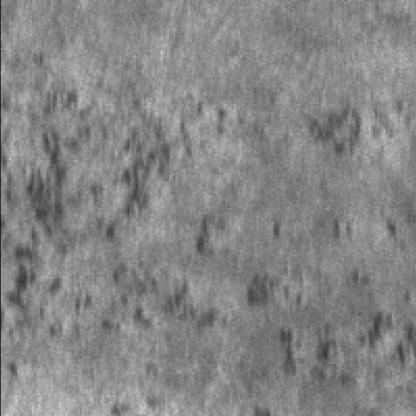rolled-in_scale: (4, 54, 229, 358), (195, 220, 416, 399), (305, 97, 416, 168)
